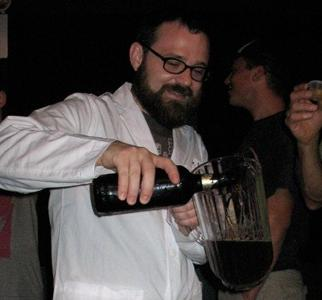person: (1, 5, 228, 300)
